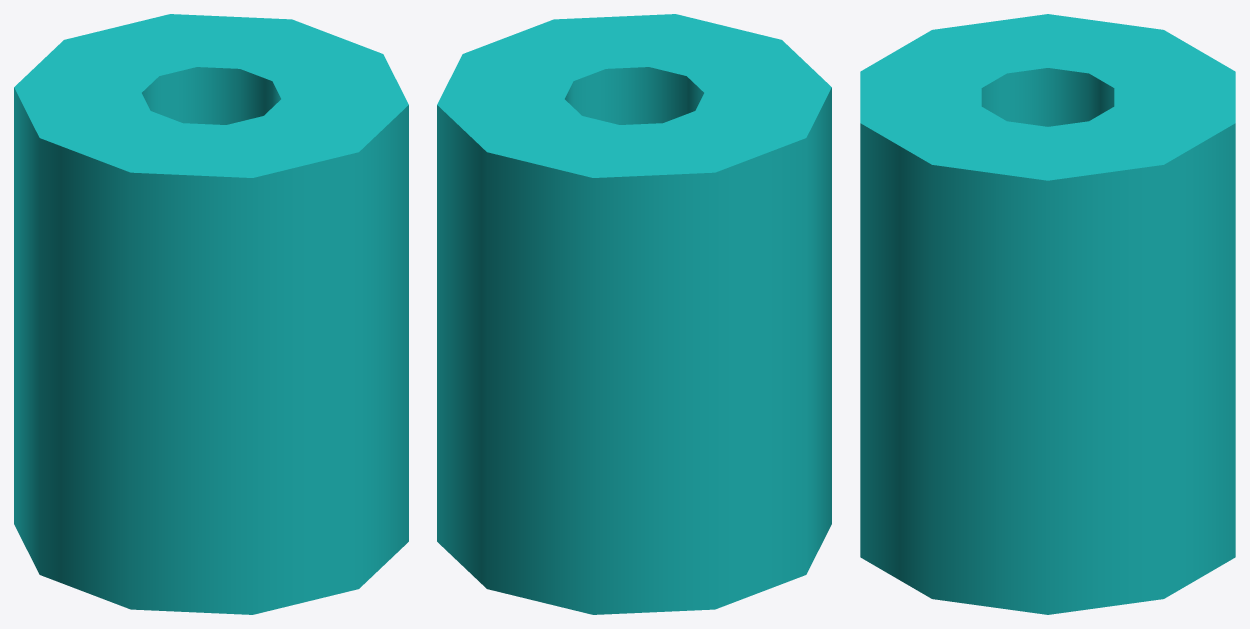
Rendered from papelHiguienico.fbx.
The picture shows the model from 3 angles, left to right: view 1: azimuth 30°, elevation 25°; view 2: azimuth 150°, elevation 25°; view 3: azimuth 270°, elevation 25°; orthographic projection.
Visible parts, largest first — view 1: Papel_higenico; view 2: Papel_higenico; view 3: Papel_higenico.
Part boxes in pixels (bbox=[...]): Papel_higenico: bbox=[14, 14, 408, 614]; Papel_higenico: bbox=[437, 14, 831, 614]; Papel_higenico: bbox=[860, 14, 1235, 614].
Size of the model in its own units: 0.1329 by 0.1613 by 0.1264.
